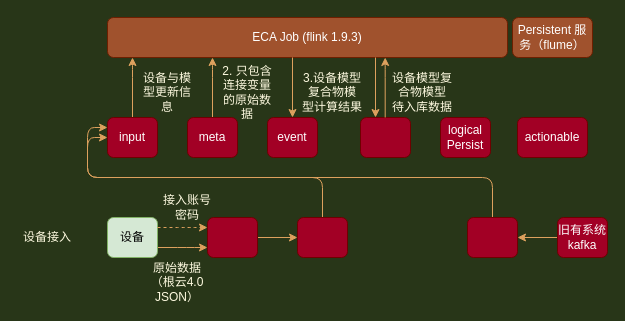
The diagram is 625 pixels wide and 321 high, and some of its shapes have lost their labels. Each missing label, with the centre of its shape:
EMQX: (232,237)
Iothub-access: (322,237)
logical: (385,137)
数据转发服务: (492,237)
